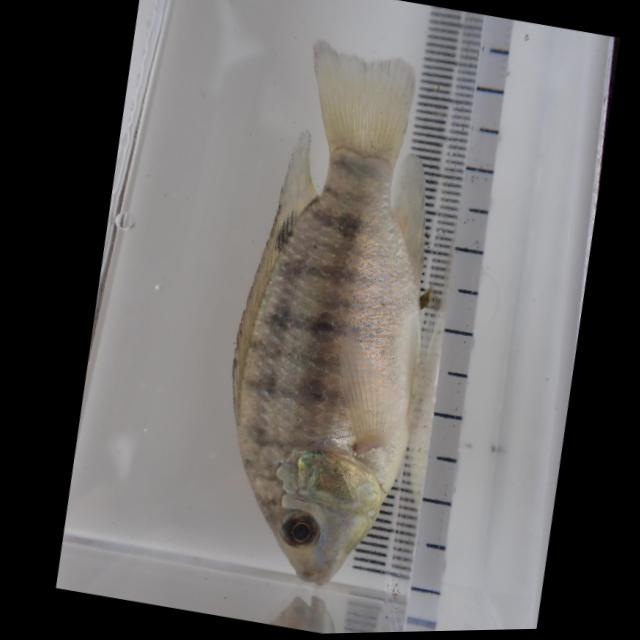Tilapia: (176, 36, 491, 595)
